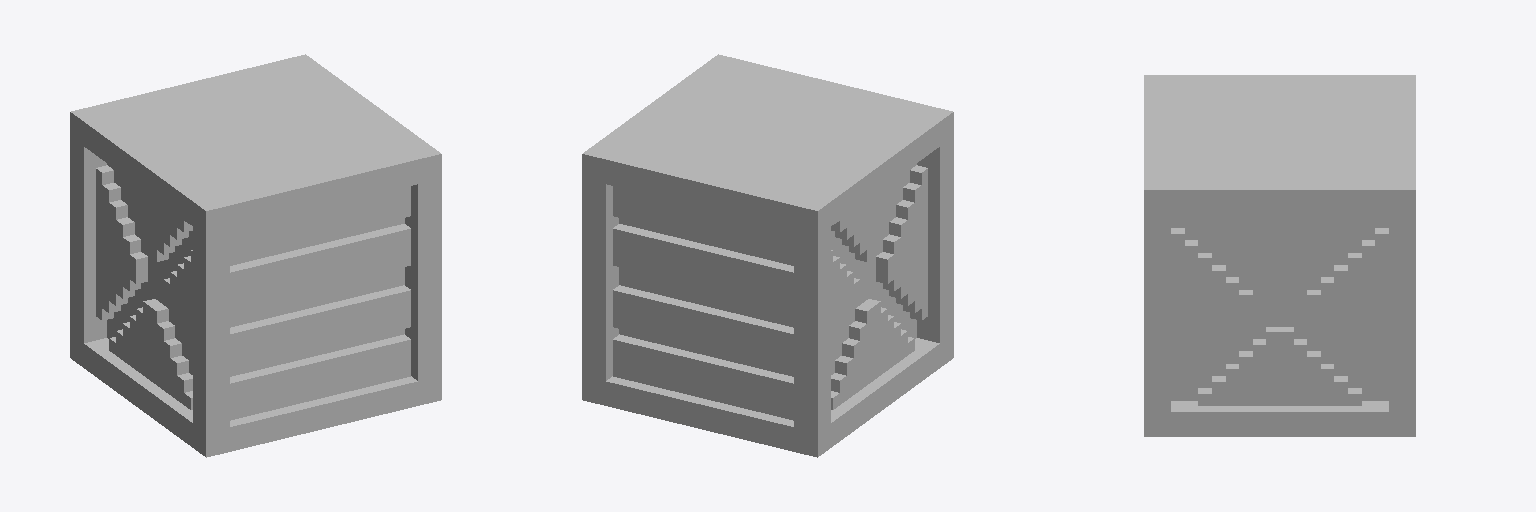
File: caja2.obj
3 renders of one model, left to right at view 1: azimuth 30°, elevation 25°; view 2: azimuth 150°, elevation 25°; view 3: azimuth 270°, elevation 25°, orthographic.
Visible parts, largest first — view 1: object 1; view 2: object 1; view 3: object 1.
Boxes of the visible parts, x1,y1,x2,y2 form: object 1: [70, 54, 441, 457]; object 1: [582, 54, 953, 457]; object 1: [1144, 75, 1415, 436].
Bounding box in the file's own units: 2 × 2 × 2.